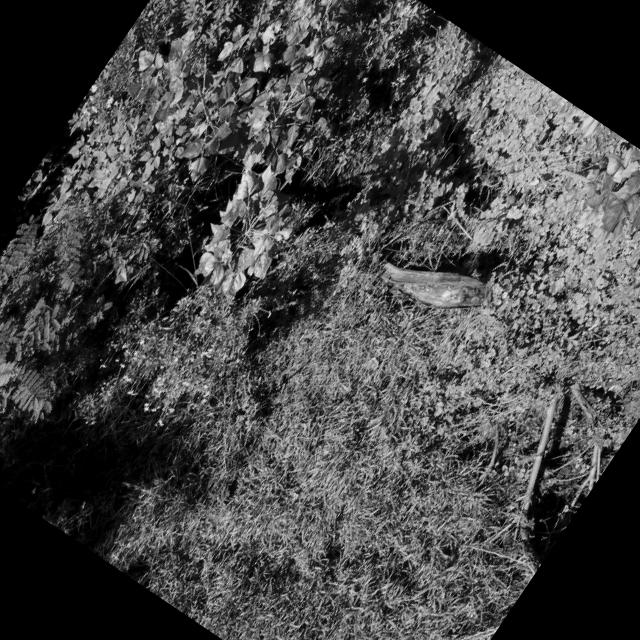Mysore-Thorn-Weed: (0, 177, 145, 483)
